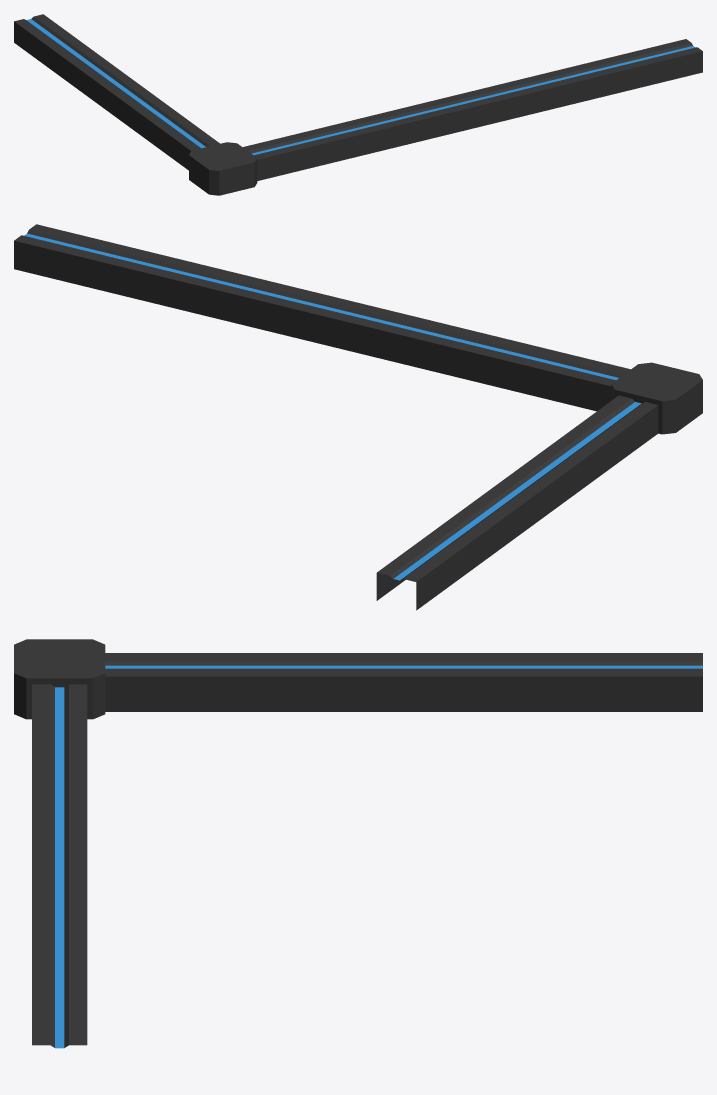
3 views of the same model, one above another, from view 1: azimuth 30°, elevation 25°; view 2: azimuth 150°, elevation 25°; view 3: azimuth 270°, elevation 25° (orthographic). The views are drawn at different scales.
Visible parts, largest first — view 1: 1001; view 2: 1001; view 3: 1001.
Part boxes in pixels (bbox=[...]): 1001: bbox=[14, 14, 702, 195]; 1001: bbox=[14, 224, 702, 610]; 1001: bbox=[14, 639, 702, 1048].
Bounding box in the file's own units: 1.05 × 0.0503 × 0.7651.
